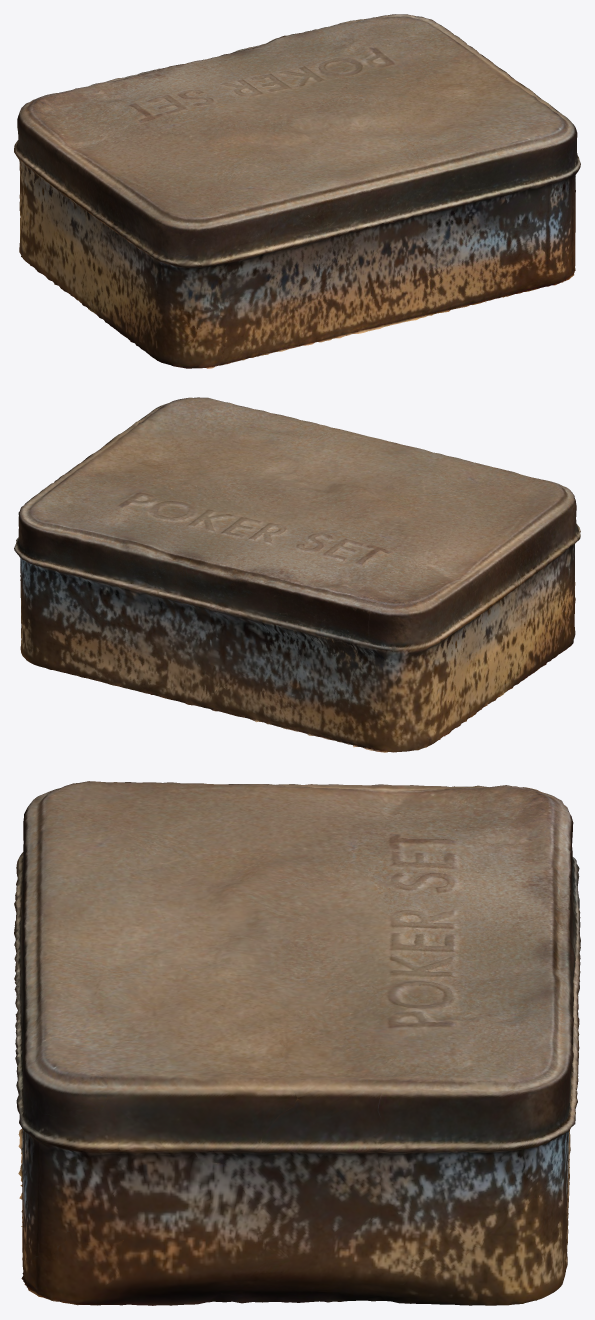
File: CanOfSardines1.fbx
The picture shows the model from 3 angles, top to bottom: view 1: azimuth 30°, elevation 25°; view 2: azimuth 150°, elevation 25°; view 3: azimuth 270°, elevation 25°; orthographic projection. The views are drawn at different scales.
Parts seen in each view (by area): view 1: set poker; view 2: set poker; view 3: set poker.
Boxes of the visible parts, box(x1,y1,x2,y2) form: set poker: box(14, 14, 580, 368); set poker: box(14, 397, 580, 752); set poker: box(14, 781, 580, 1305).
Size of the model in its own units: 14.5 by 4.87 by 10.84.
Materials: 1 (1 with a texture image).
